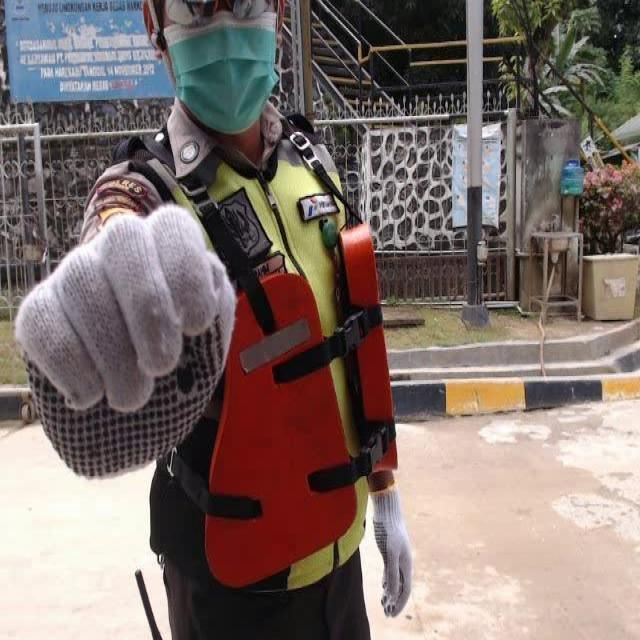Vest: (202, 223, 404, 584)
